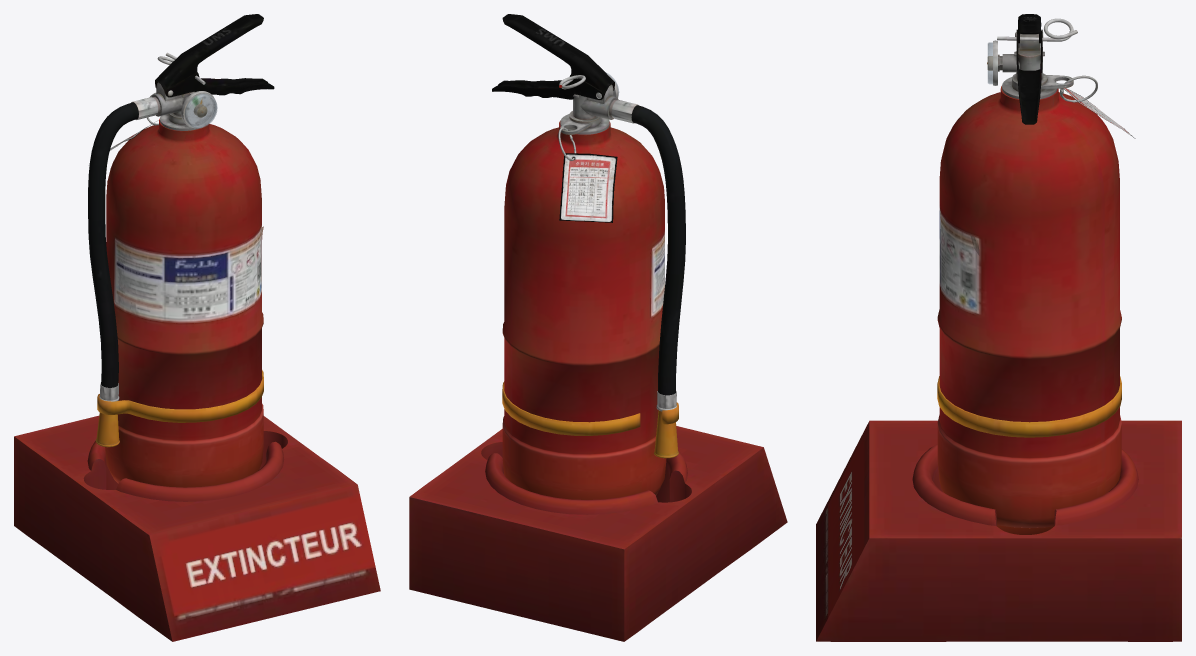
Rendered from korean_fire_extinguisher_01.glb.
3 views of the same model, side by side, from view 1: azimuth 30°, elevation 25°; view 2: azimuth 150°, elevation 25°; view 3: azimuth 270°, elevation 25° (orthographic). The views are drawn at different scales.
Visible parts, largest first — view 1: korean_fire_extinguisher_01; view 2: korean_fire_extinguisher_01; view 3: korean_fire_extinguisher_01.
Part boxes in pixels (x1=…): korean_fire_extinguisher_01: x1=14, y1=14, x2=380, y2=641; korean_fire_extinguisher_01: x1=409, y1=14, x2=787, y2=641; korean_fire_extinguisher_01: x1=816, y1=14, x2=1181, y2=641.
Size of the model in its own units: 0.28 by 0.6593 by 0.3674.
Materials: 3 (3 with a texture image).
